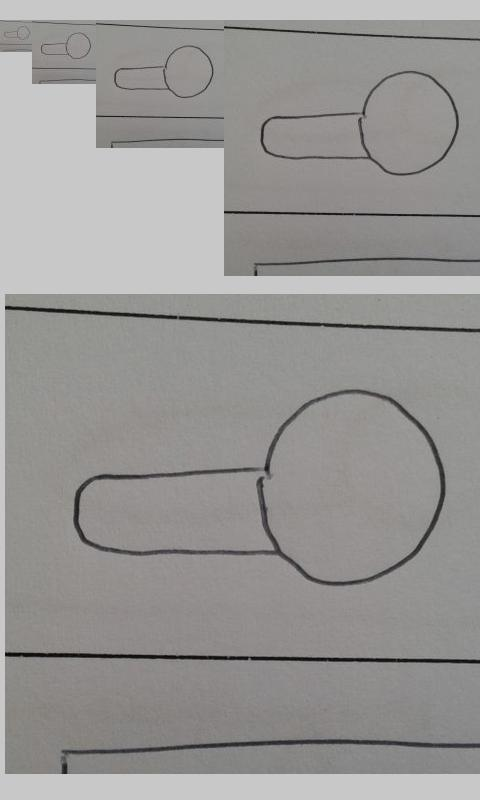switch: (73, 389, 447, 587), (260, 70, 460, 176), (114, 45, 214, 99), (40, 32, 91, 59), (3, 25, 31, 41)
